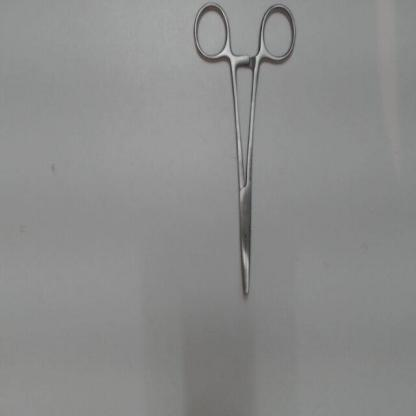Crile Artery Forceps: (190, 1, 301, 306)
